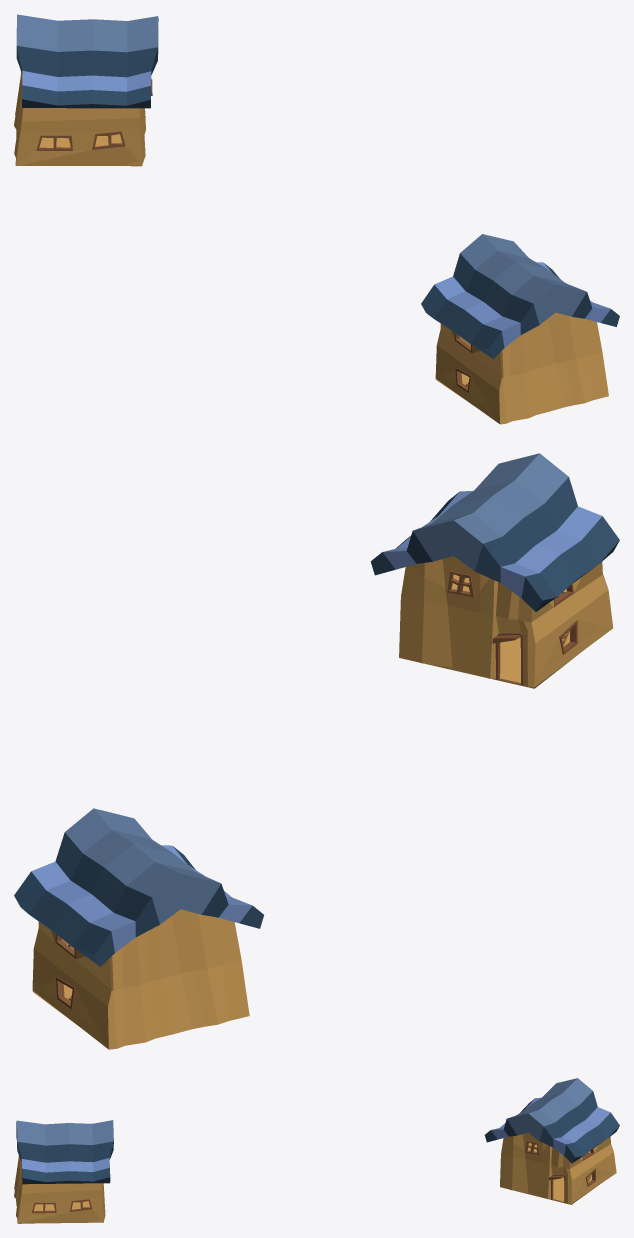
File: big_house.gltf
The picture shows the model from 3 angles, top to bottom: view 1: azimuth 30°, elevation 25°; view 2: azimuth 150°, elevation 25°; view 3: azimuth 270°, elevation 25°; orthographic projection. The views are drawn at different scales.
Parts seen in each view (by area): view 1: big_house; view 2: big_house; view 3: big_house.
Boxes of the visible parts, bbox=[...] form: big_house: bbox=[14, 14, 619, 424]; big_house: bbox=[14, 453, 619, 1049]; big_house: bbox=[14, 1078, 619, 1223].
Size of the model in its own units: 1.5 by 0.8044 by 5.12.
6 materials, 6 textured.
